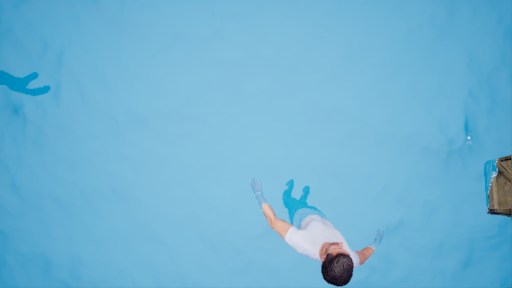person: (249, 176, 390, 282)
